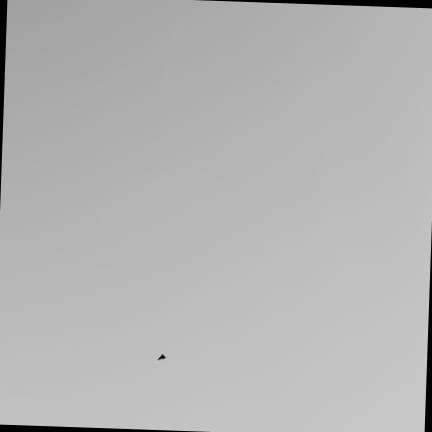Shahed: (158, 353, 165, 359)
